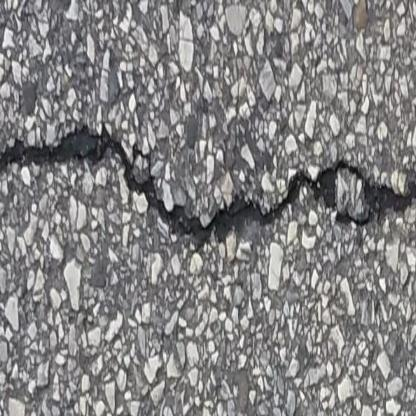Cracks: (0, 129, 416, 243)
